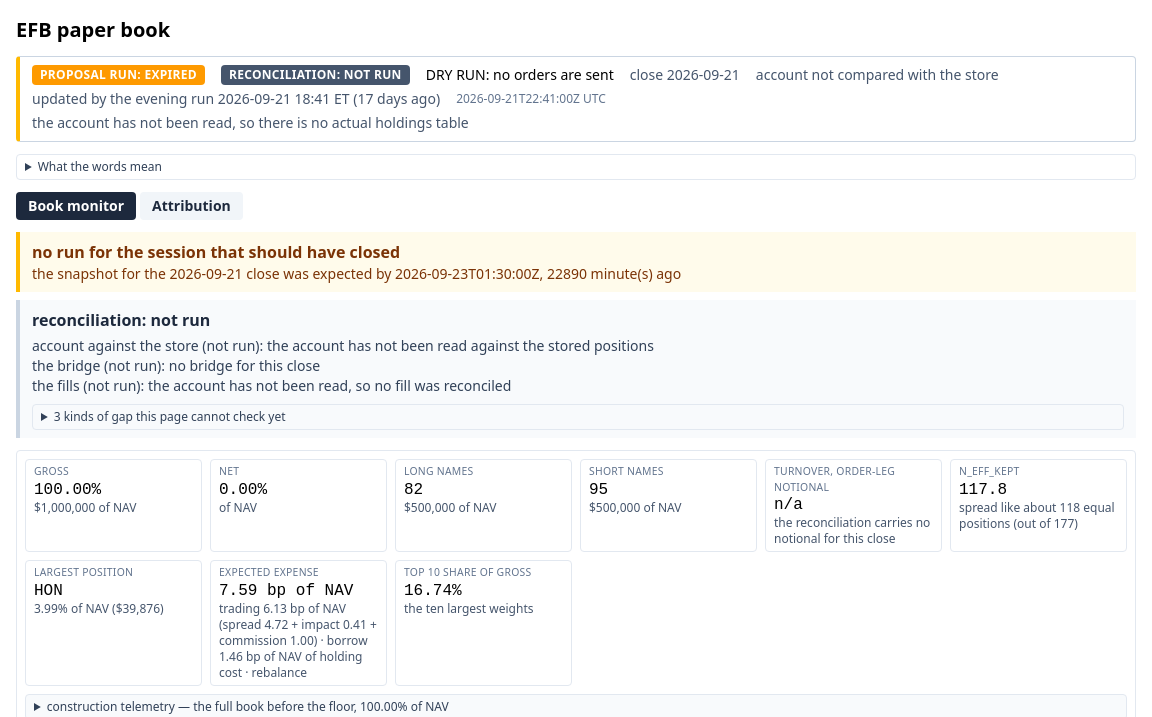
Test case: the attribution section › draws no risk chart when the live period carries no risk block
Click the tab "Attribution": [191, 206] box left=140, top=192, right=243, bottom=220
(page scrolled)
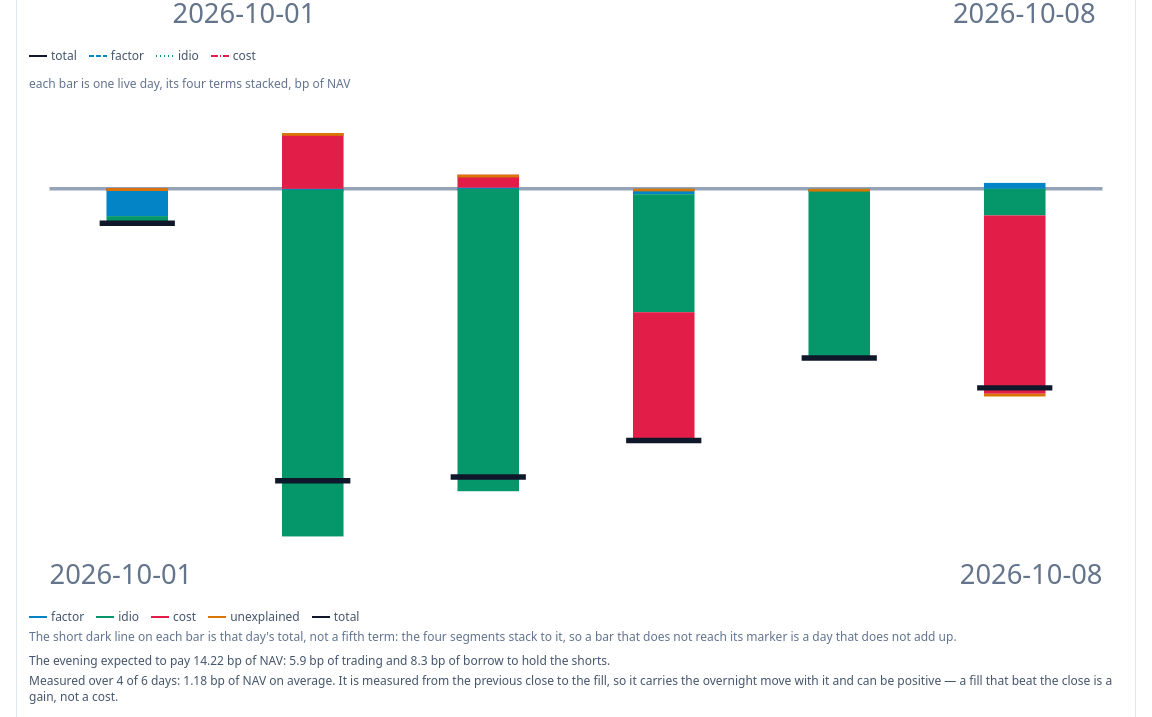
expect the element named "2026-10-012026-10-08" is shown: met
